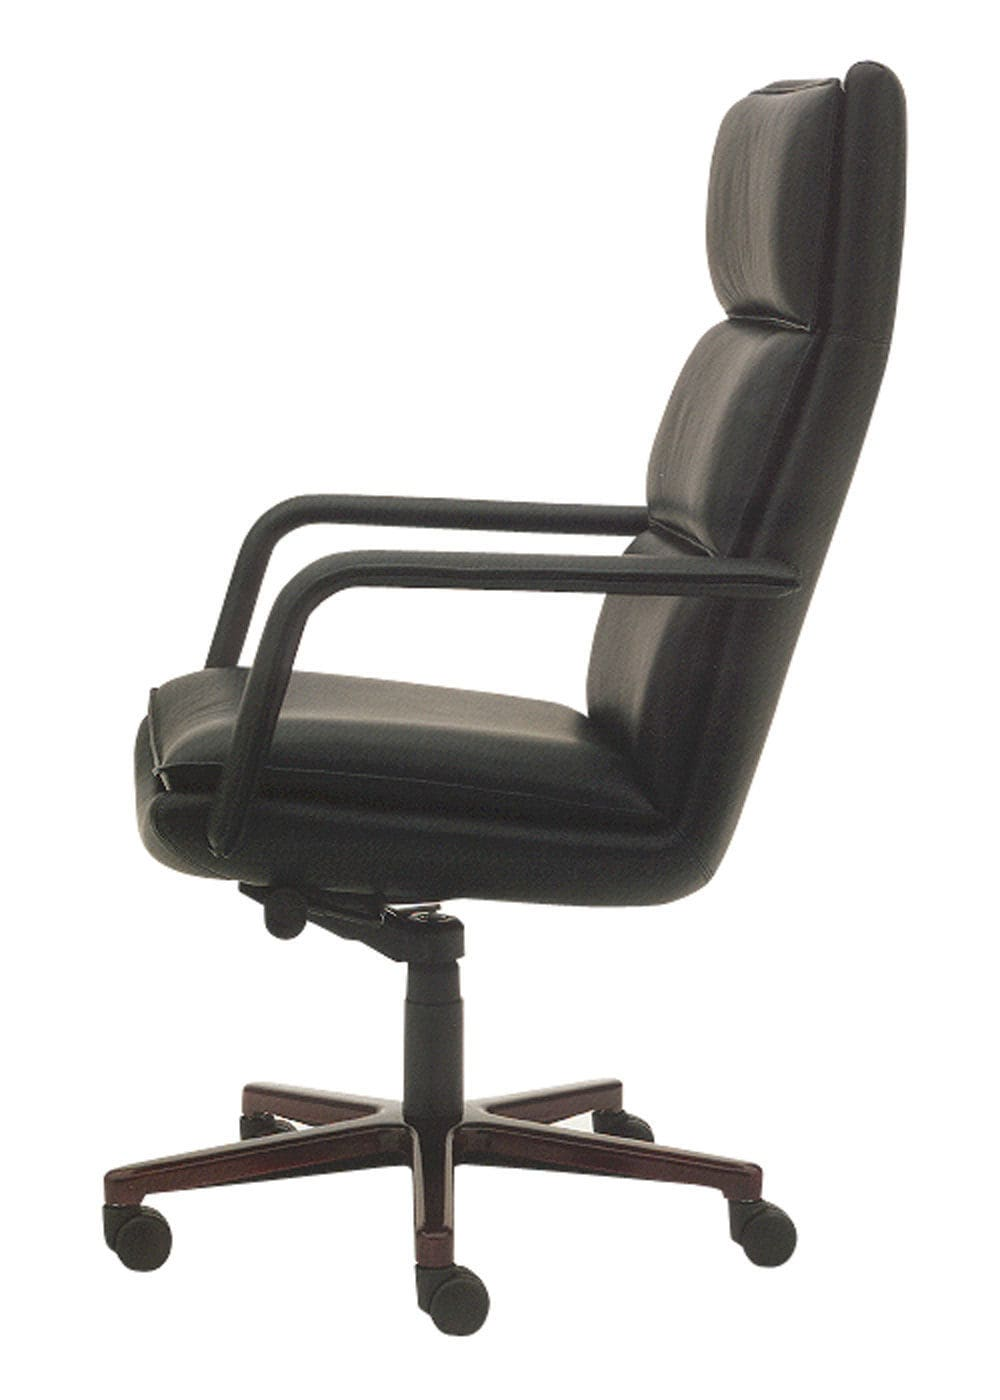chairs: (88, 60, 912, 1350)
